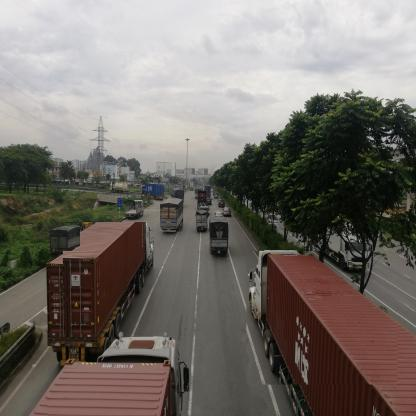container: (248, 252, 399, 386), (48, 331, 185, 416), (64, 223, 154, 338), (142, 185, 164, 201), (111, 183, 130, 194)
truck: (326, 234, 373, 270), (46, 224, 81, 252), (161, 200, 184, 233), (210, 219, 230, 256), (128, 201, 144, 221), (198, 212, 209, 231), (173, 190, 185, 200), (225, 208, 232, 217)
